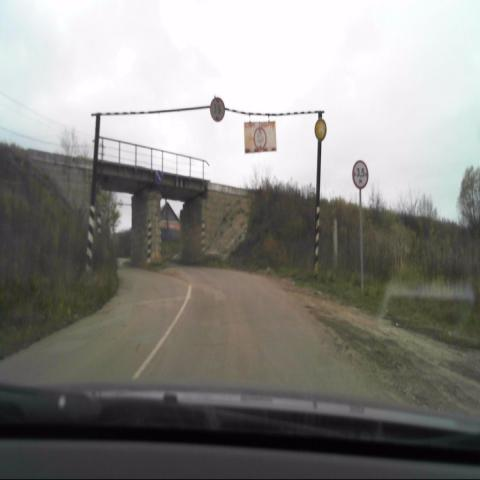3_13: (209, 97, 225, 123)
3_14: (352, 160, 368, 190)
